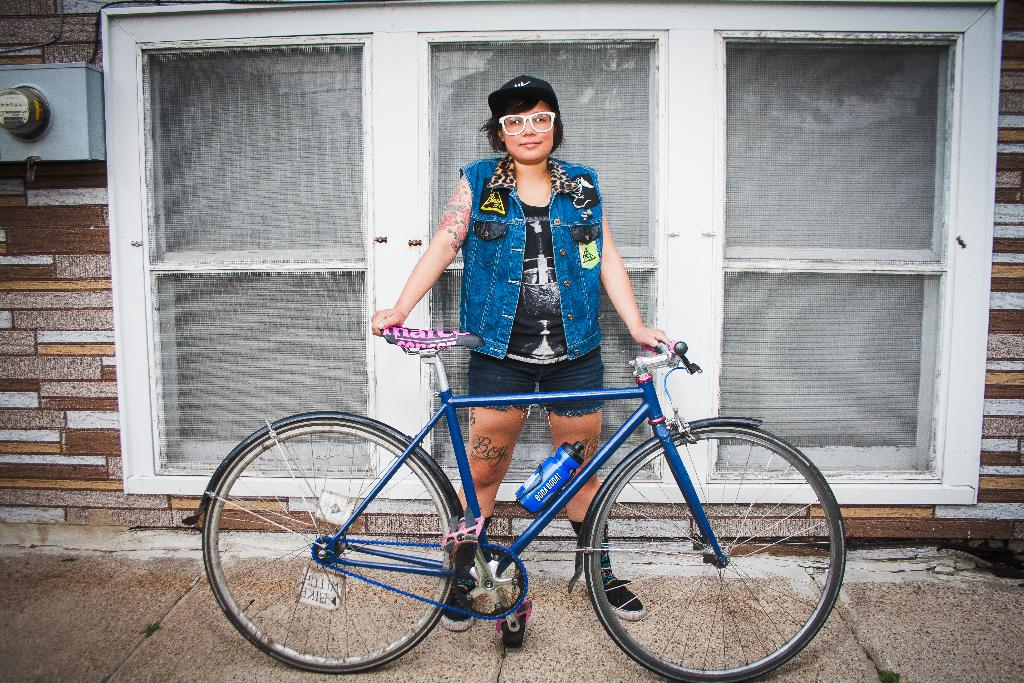Bike_toward: (157, 331, 875, 652)
